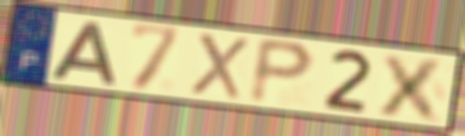2: (322, 49, 373, 115)
7: (129, 20, 186, 95)
A: (48, 19, 119, 87)
P: (245, 35, 319, 107)
X: (373, 51, 451, 126), (187, 30, 251, 102)
